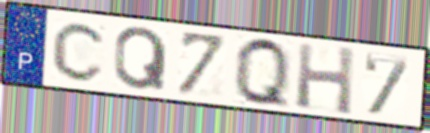7: (178, 29, 231, 98), (361, 50, 413, 118)
C: (50, 19, 110, 84)
H: (294, 41, 357, 118)
Q: (232, 34, 293, 113), (113, 25, 170, 93)
